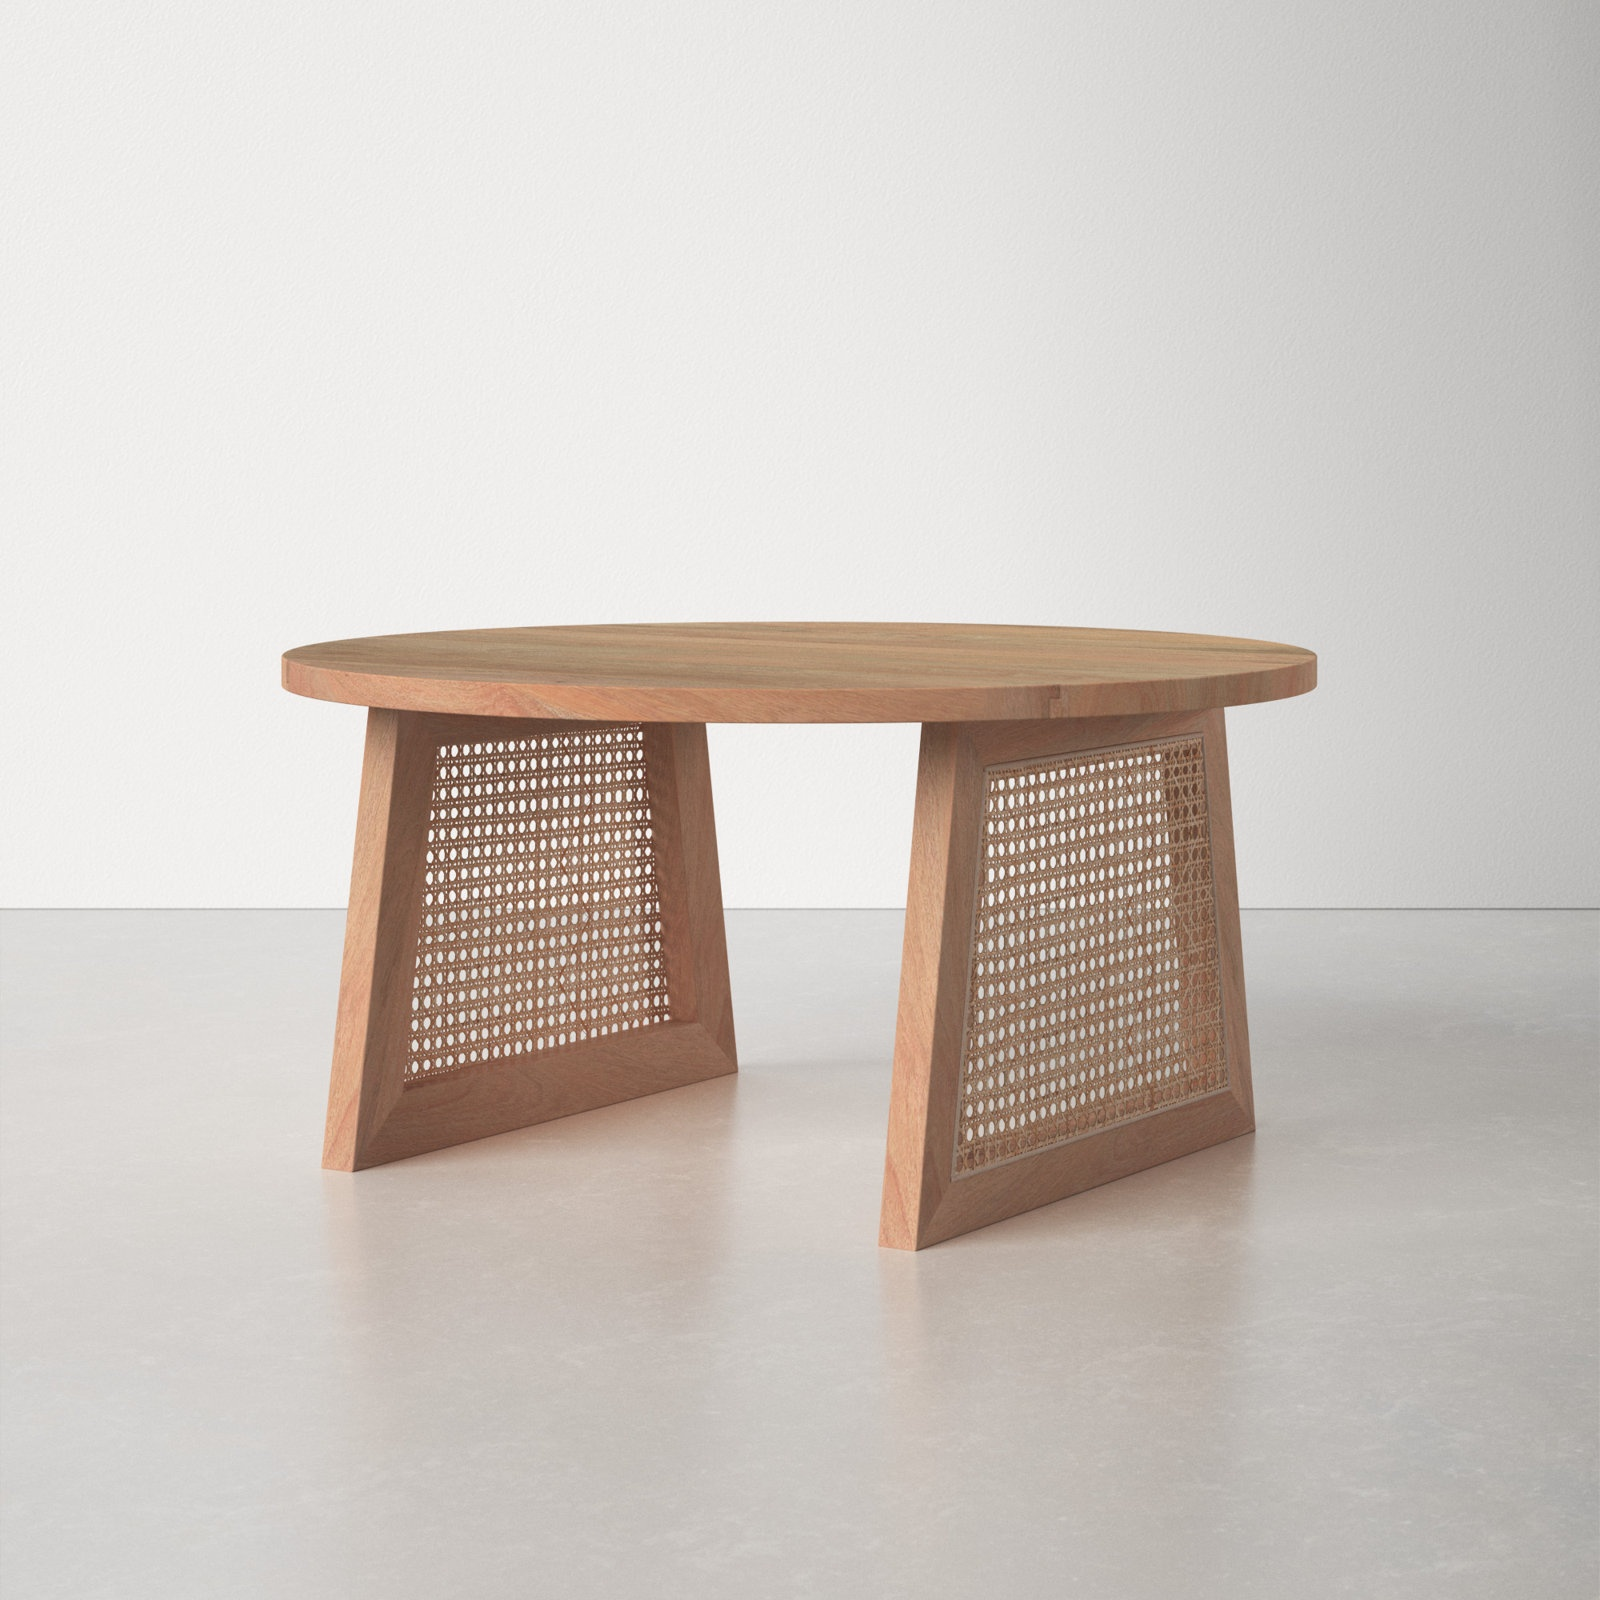obstacle: (283, 623, 1314, 1248)
